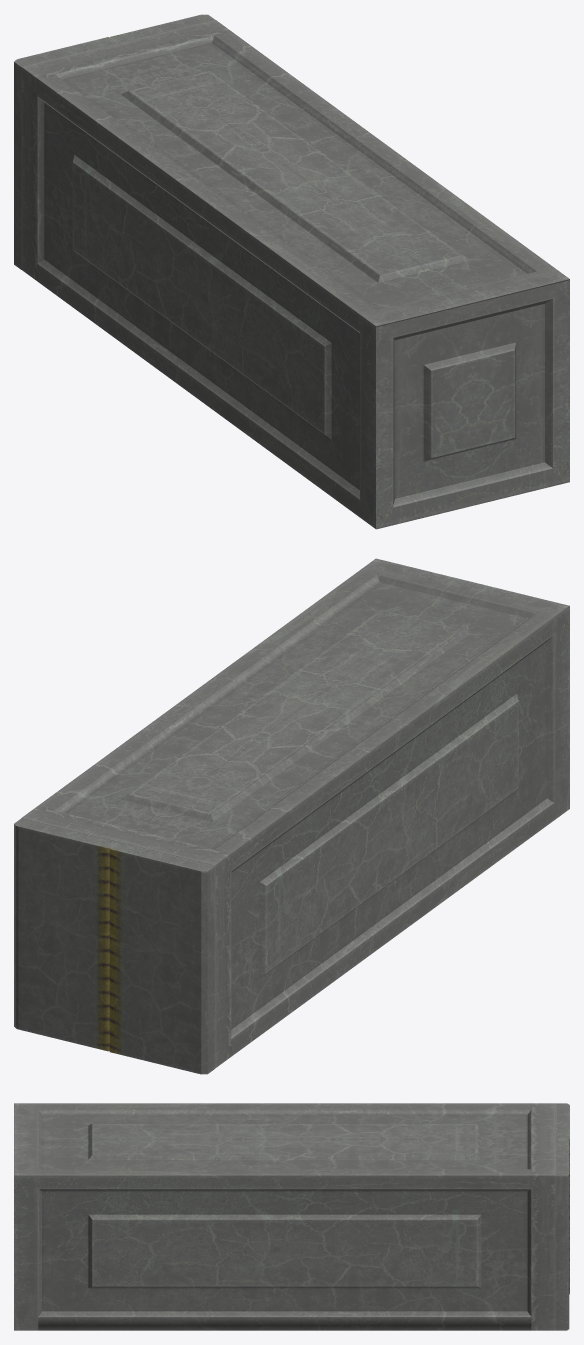
Rendered from crateClosed_1.0.fbx.
3 views of the same model, one above another, from view 1: azimuth 30°, elevation 25°; view 2: azimuth 150°, elevation 25°; view 3: azimuth 270°, elevation 25° (orthographic). The views are drawn at different scales.
Parts seen in each view (by area): view 1: Crate_Closed; view 2: Crate_Closed; view 3: Crate_Closed.
Part boxes in pixels (x1,y1,x2,y2): Crate_Closed: [14, 14, 569, 529]; Crate_Closed: [14, 558, 569, 1074]; Crate_Closed: [14, 1103, 569, 1330].
Bounding box in the file's own units: 120 × 120 × 390.
